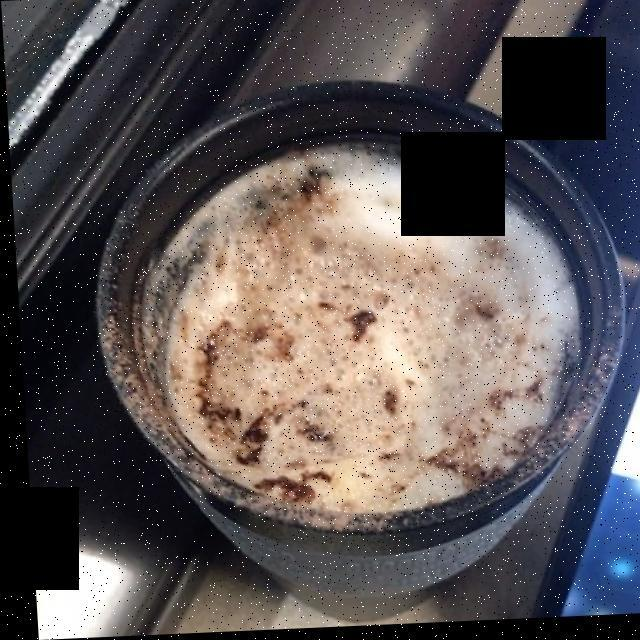cappuccino: (168, 147, 565, 522)
